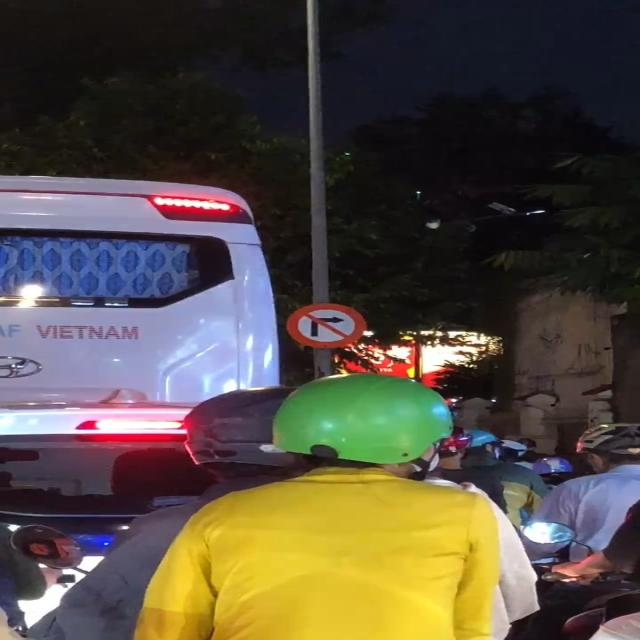Bien bao cam re phai: (286, 300, 383, 353)
